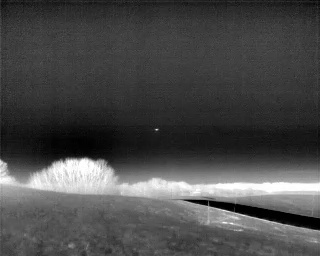AIRPLANE: (154, 126, 160, 133)
